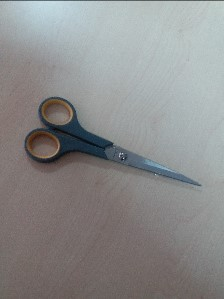scissors: (17, 96, 201, 197)
